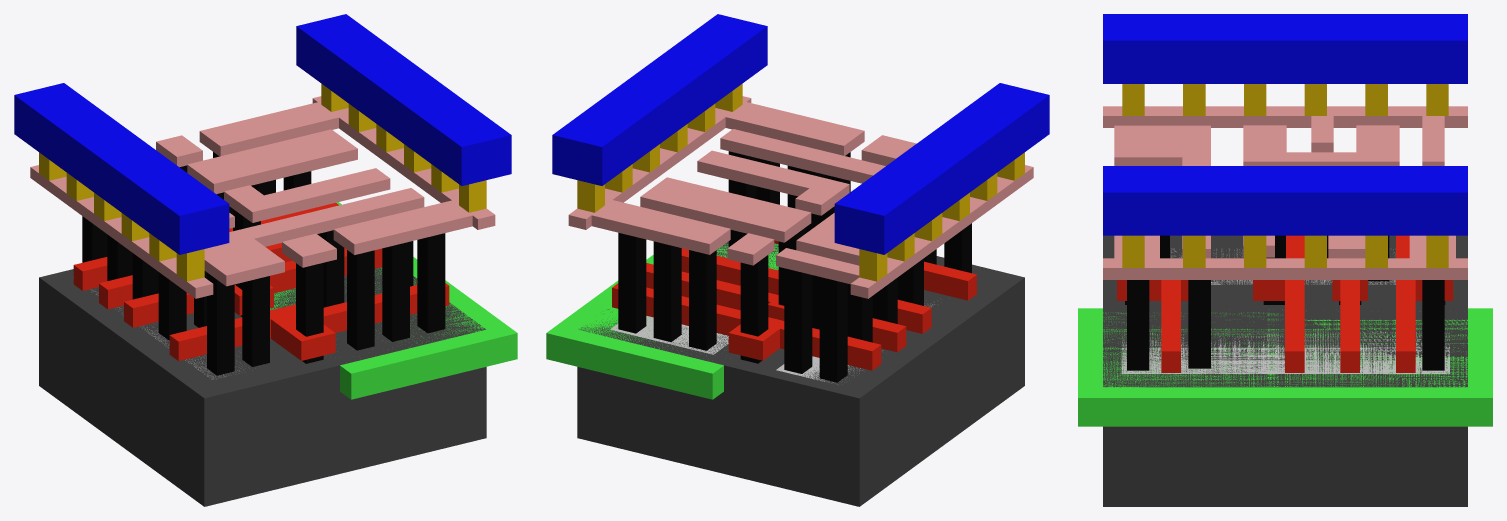
File: sky130_fd_sc_hd__o31ai_1.obj
The picture shows the model from 3 angles, left to right: view 1: azimuth 30°, elevation 25°; view 2: azimuth 150°, elevation 25°; view 3: azimuth 270°, elevation 25°; orthographic projection. The views are drawn at different scales.
Visible parts, largest first — view 1: subs, metal1, li, licon, poly, nwell, mcon; view 2: subs, metal1, li, licon, poly, nwell, mcon, tap; view 3: subs, metal1, nwell, li, poly, mcon, licon, tap.
Part boxes in pixels (bbox=[...]): subs: bbox=[39, 267, 486, 506]; metal1: bbox=[14, 14, 511, 254]; li: bbox=[30, 96, 495, 298]; licon: bbox=[82, 152, 445, 375]; poly: bbox=[73, 203, 449, 360]; nwell: bbox=[270, 202, 517, 399]; mcon: bbox=[39, 83, 486, 281]; subs: bbox=[577, 241, 1024, 506]; metal1: bbox=[552, 14, 1049, 254]; li: bbox=[568, 96, 1033, 298]; licon: bbox=[618, 151, 971, 382]; poly: bbox=[612, 240, 976, 370]; nwell: bbox=[546, 243, 778, 399]; mcon: bbox=[577, 83, 1024, 281]; tap: bbox=[610, 246, 728, 354]; subs: bbox=[1103, 235, 1467, 506]; metal1: bbox=[1103, 14, 1467, 235]; nwell: bbox=[1078, 308, 1492, 426]; li: bbox=[1103, 106, 1467, 279]; poly: bbox=[1117, 235, 1453, 372]; mcon: bbox=[1122, 84, 1448, 267]; licon: bbox=[1125, 235, 1445, 370]; tap: bbox=[1121, 327, 1449, 373].
Bounding box in the file's own units: 3.2 × 2.74 × 3.14.
